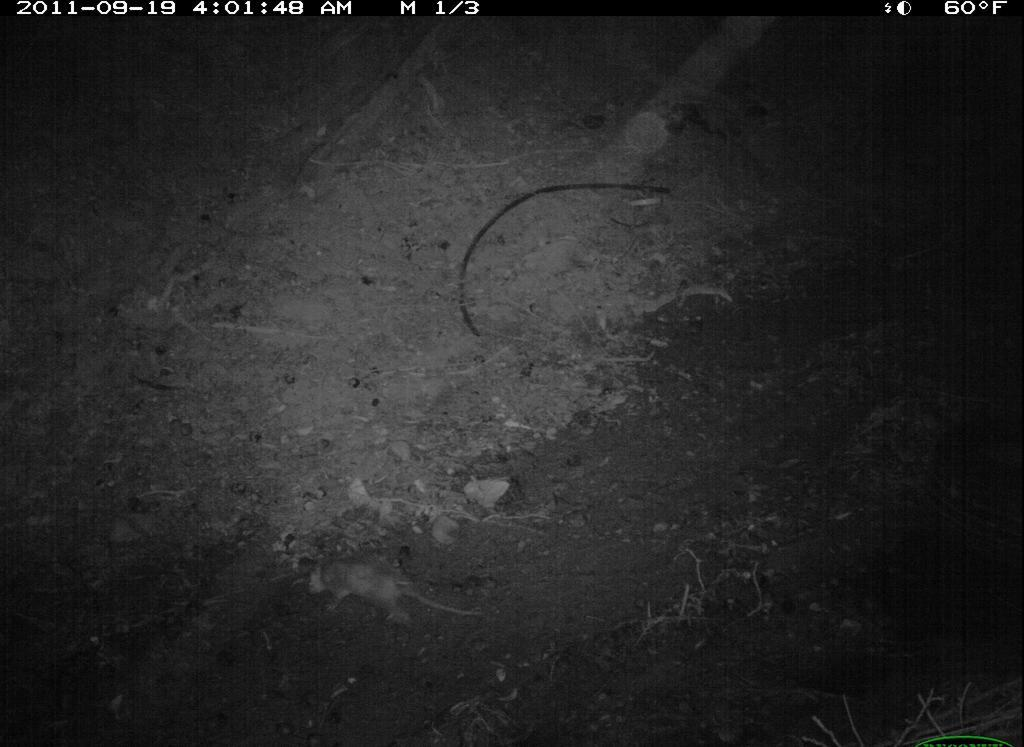opossum: (289, 539, 521, 661)
